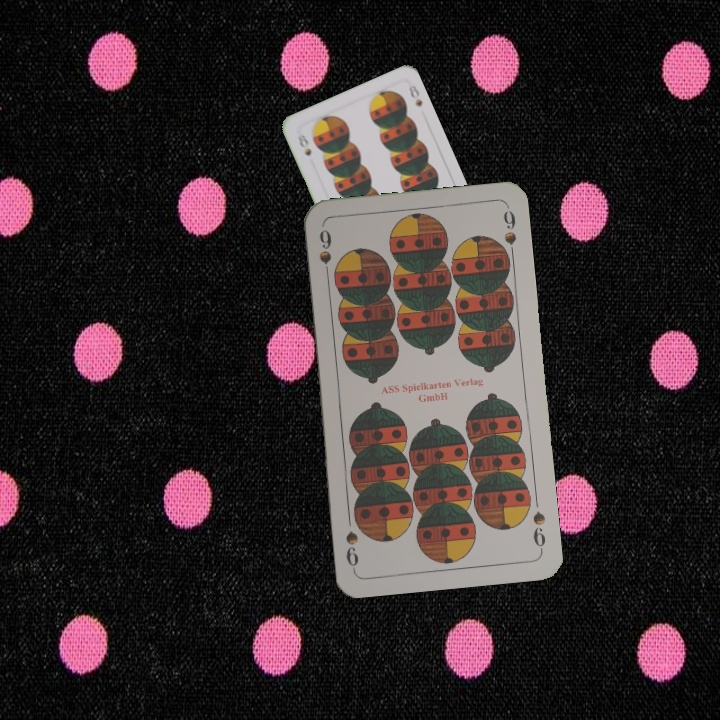S8: (293, 130, 314, 159)
S9: (315, 225, 334, 283), (528, 508, 548, 554)
